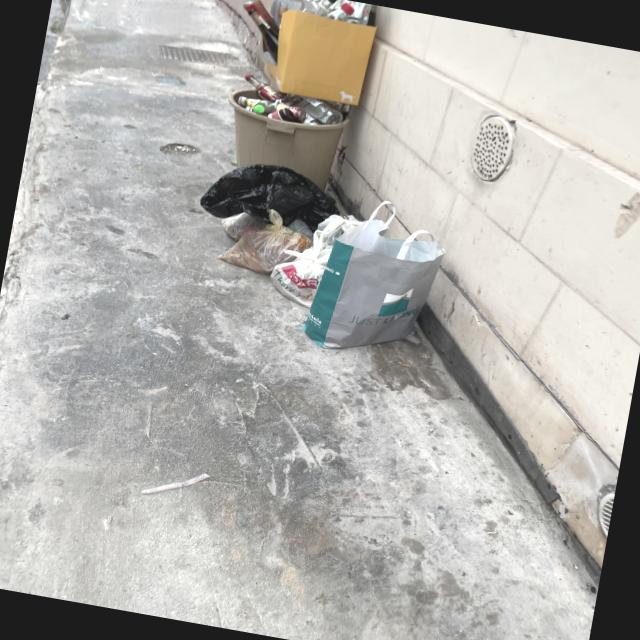black_bag: (195, 152, 344, 235)
other_waste: (314, 200, 454, 362), (227, 0, 397, 115), (212, 73, 354, 198)
white_bag: (265, 224, 353, 312), (214, 212, 312, 280), (308, 208, 366, 252), (214, 208, 268, 240)
